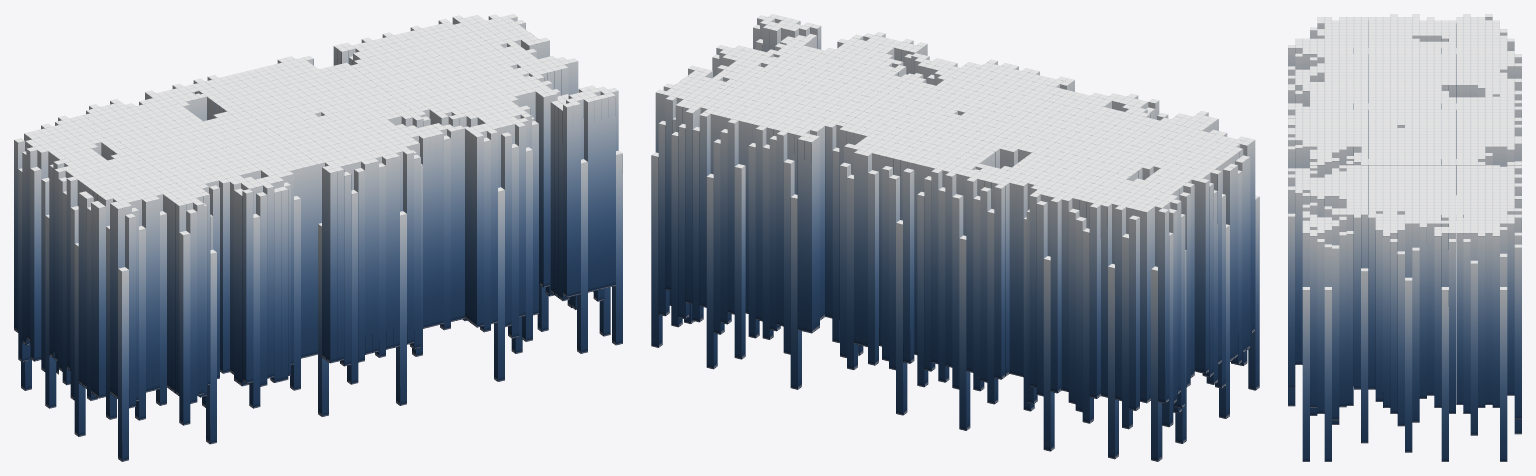
Rendered from Back_Ground_01.fbx.
The picture shows the model from 3 angles, left to right: view 1: azimuth 30°, elevation 25°; view 2: azimuth 150°, elevation 25°; view 3: azimuth 270°, elevation 25°; orthographic projection. The views are drawn at different scales.
Parts seen in each view (by area): view 1: Back_Ground_Cube; view 2: Back_Ground_Cube; view 3: Back_Ground_Cube.
Boxes of the visible parts, left/top/right/bottom form: Back_Ground_Cube: left=14, top=14, right=622, bottom=461; Back_Ground_Cube: left=651, top=14, right=1259, bottom=461; Back_Ground_Cube: left=1288, top=14, right=1521, bottom=461.
Size of the model in its own units: 72 by 34.14 by 32.04.
